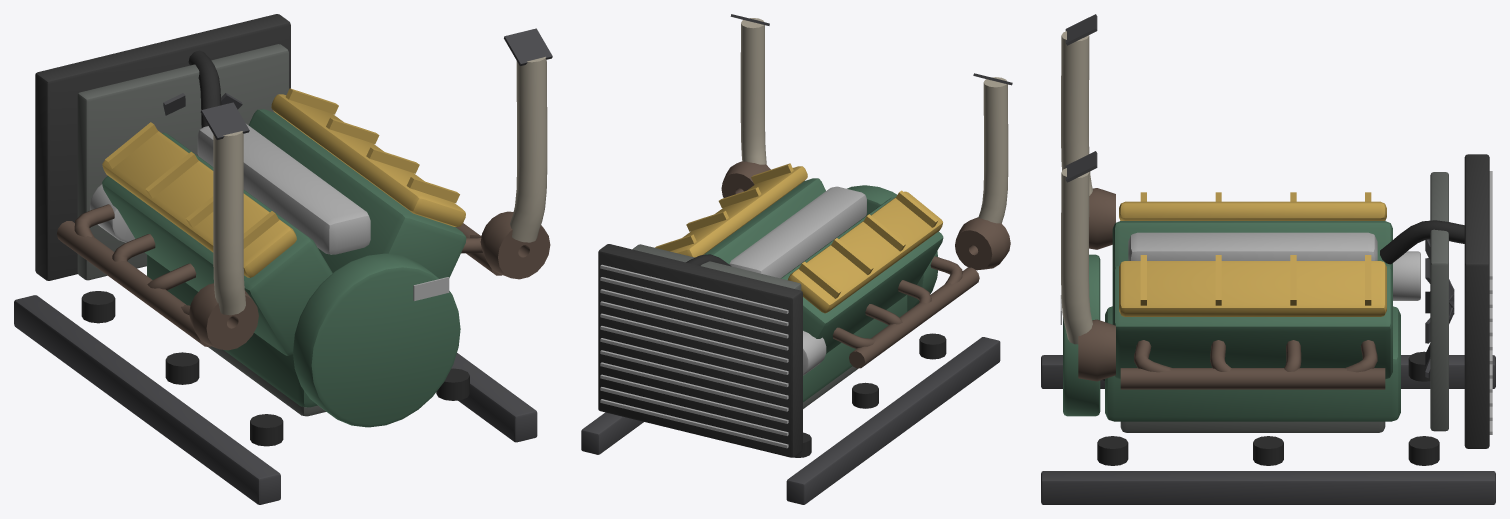
Rendered from engine_l.glb.
3 views of the same model, side by side, from view 1: azimuth 30°, elevation 25°; view 2: azimuth 150°, elevation 25°; view 3: azimuth 270°, elevation 25° (orthographic). The views are drawn at different scales.
Parts seen in each view (by area): view 1: Part; view 2: Part; view 3: Part.
Part boxes in pixels (box(x1,y1,x2,y2)): Part: box(14, 14, 552, 504); Part: box(581, 14, 1012, 504); Part: box(1041, 14, 1495, 504).
Size of the model in its own units: 1.2 by 1.25 by 1.46.
